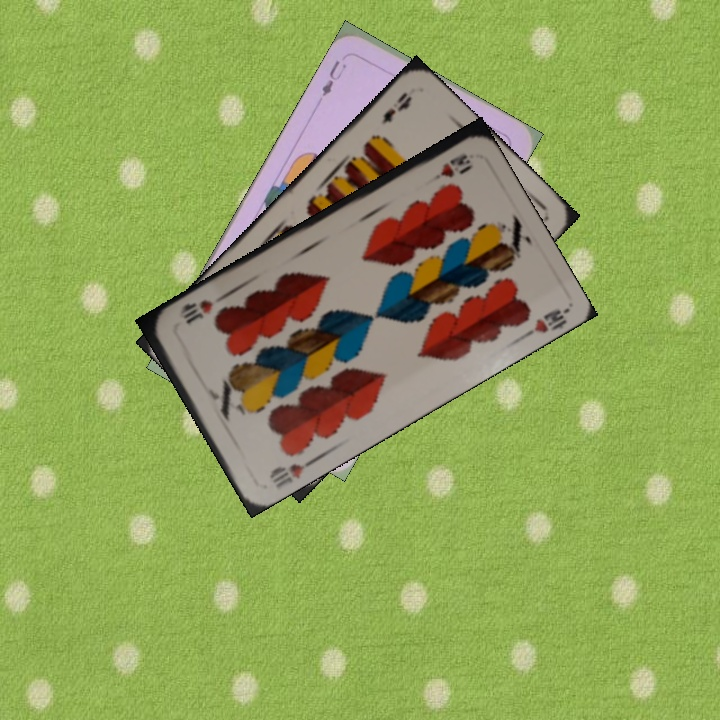E9: (377, 87, 415, 127)
EU: (317, 50, 353, 99)
H10: (420, 149, 472, 188), (265, 455, 317, 491)
